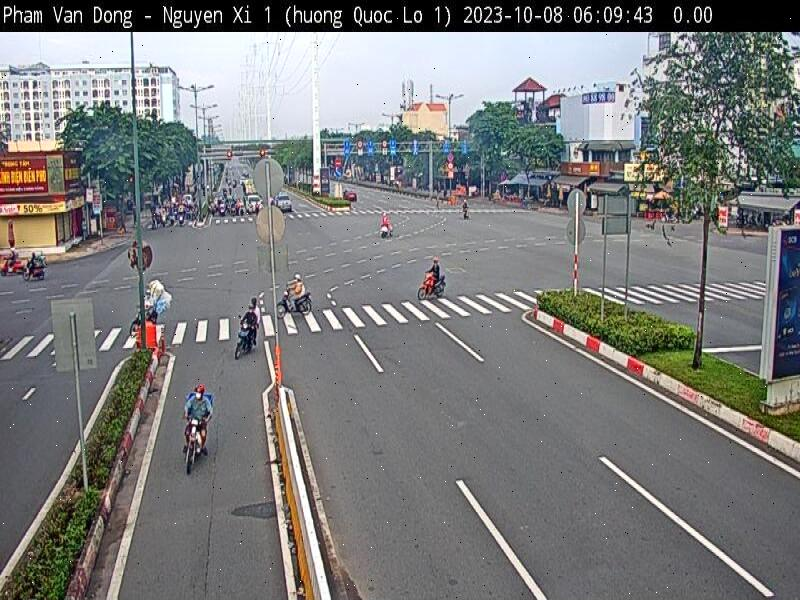motorcycle: (172, 413, 209, 471), (228, 321, 262, 360), (274, 290, 315, 317), (416, 272, 450, 302)
